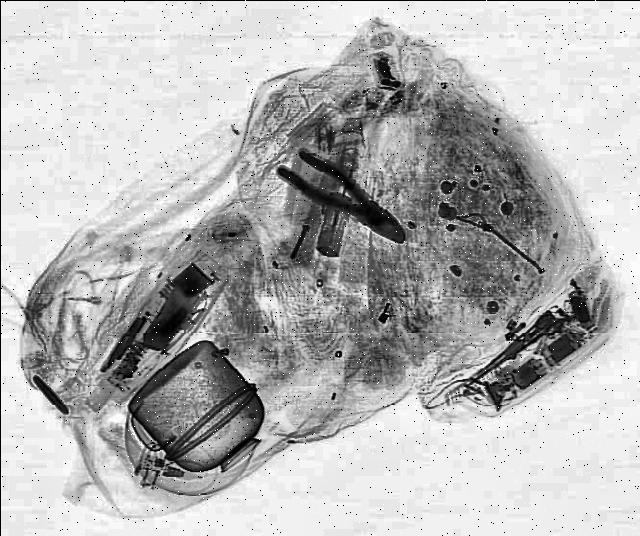Pliers: (272, 144, 420, 252)
